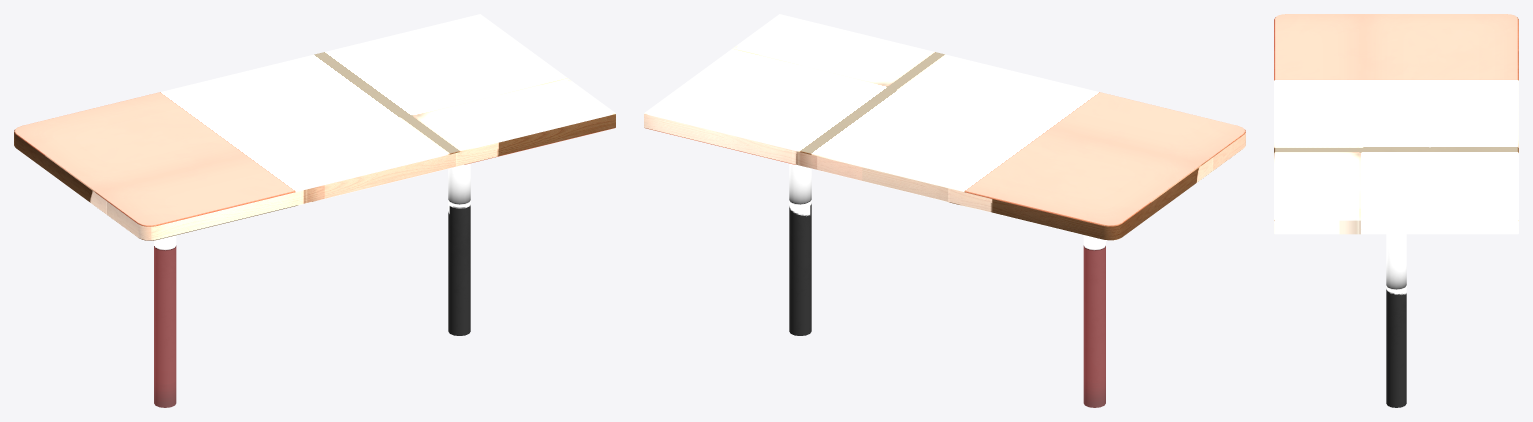
Rendered from SM_Table_01.fbx.
3 renders of one model, left to right at view 1: azimuth 30°, elevation 25°; view 2: azimuth 150°, elevation 25°; view 3: azimuth 270°, elevation 25°, orthographic. The views are drawn at different scales.
Visible parts, largest first — view 1: SM_Table_01_LOD0; view 2: SM_Table_01_LOD0; view 3: SM_Table_01_LOD0.
Boxes of the visible parts, box(x1,y1,x2,y2) form: SM_Table_01_LOD0: box(14, 14, 615, 407); SM_Table_01_LOD0: box(644, 14, 1245, 407); SM_Table_01_LOD0: box(1274, 14, 1518, 407).
Bounding box in the file's own units: 160 × 80 × 80.
